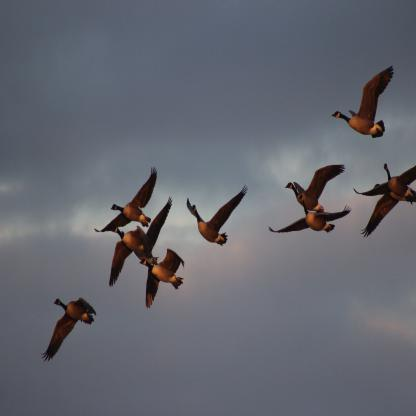bird: (109, 196, 171, 287), (331, 66, 393, 137), (95, 169, 158, 233), (186, 184, 248, 245), (41, 297, 96, 360), (269, 195, 352, 233), (285, 164, 345, 213), (141, 247, 185, 308), (353, 163, 416, 201), (363, 185, 405, 236)
